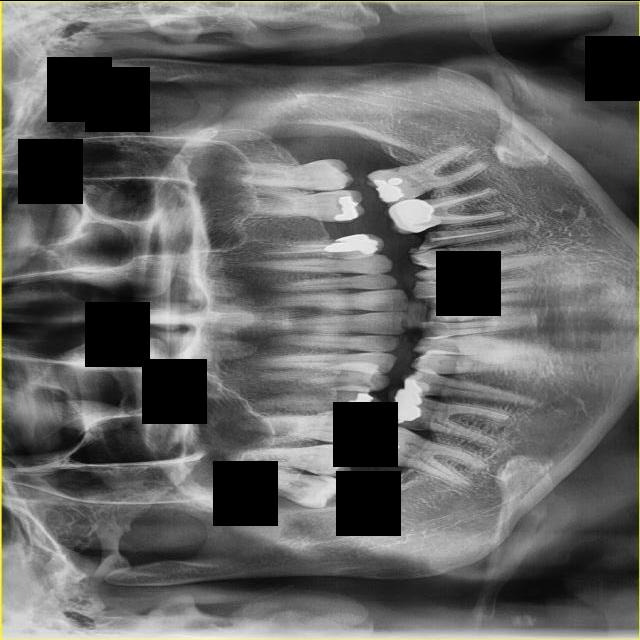74: (429, 191, 491, 209), (430, 228, 503, 240), (437, 211, 504, 221), (264, 248, 323, 255), (281, 244, 329, 248)
NucleOSS Implant: (366, 428, 404, 464), (323, 231, 381, 254), (389, 387, 423, 424), (340, 386, 376, 419), (397, 199, 435, 226), (366, 178, 403, 205), (328, 194, 361, 224), (337, 409, 365, 436), (402, 375, 429, 395), (388, 173, 403, 186)
Sterngold Implant: (411, 234, 443, 251), (403, 417, 430, 431), (308, 464, 329, 476), (304, 474, 324, 482), (377, 166, 401, 172)
Zimmer Implant: (383, 190, 443, 237)
